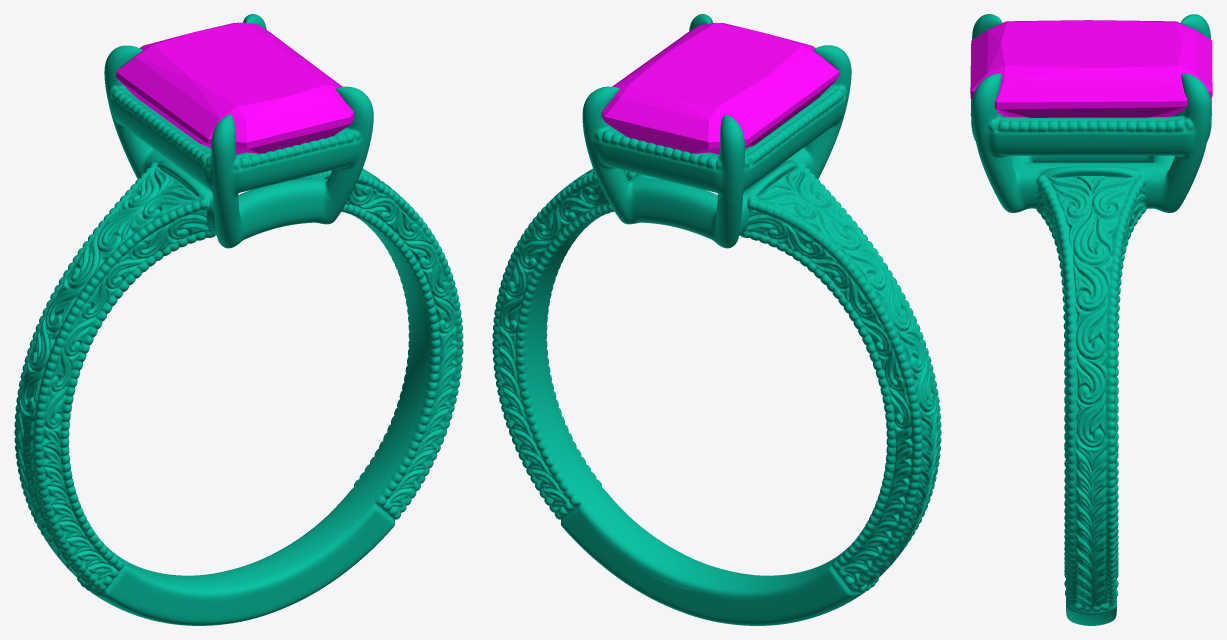
The model's file is BE1512_RA_200ct_RENDER.glb.
3 views of the same model, side by side, from view 1: azimuth 30°, elevation 25°; view 2: azimuth 150°, elevation 25°; view 3: azimuth 270°, elevation 25° (orthographic).
Visible parts, largest first — view 1: Metal 01, CS_Diamond_Radiant; view 2: Metal 01, CS_Diamond_Radiant; view 3: Metal 01, CS_Diamond_Radiant.
Part boxes in pixels (box(x1,y1,x2,y2)): Metal 01: box(14, 14, 463, 625); CS_Diamond_Radiant: box(116, 22, 354, 154); Metal 01: box(492, 14, 941, 625); CS_Diamond_Radiant: box(601, 22, 839, 154); Metal 01: box(970, 14, 1212, 625); CS_Diamond_Radiant: box(970, 20, 1212, 117).
Size of the model in its own units: 19.9 by 24.26 by 9.53.
